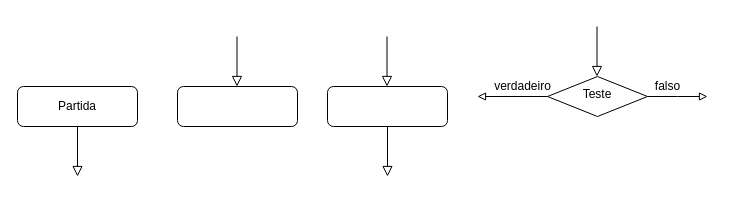
This 733x204 diagram has some shape labels left out. Each missing label, with the centre of its shape:
"Operação" belongs at point (387, 106).
"Parada" belongs at point (237, 106).
